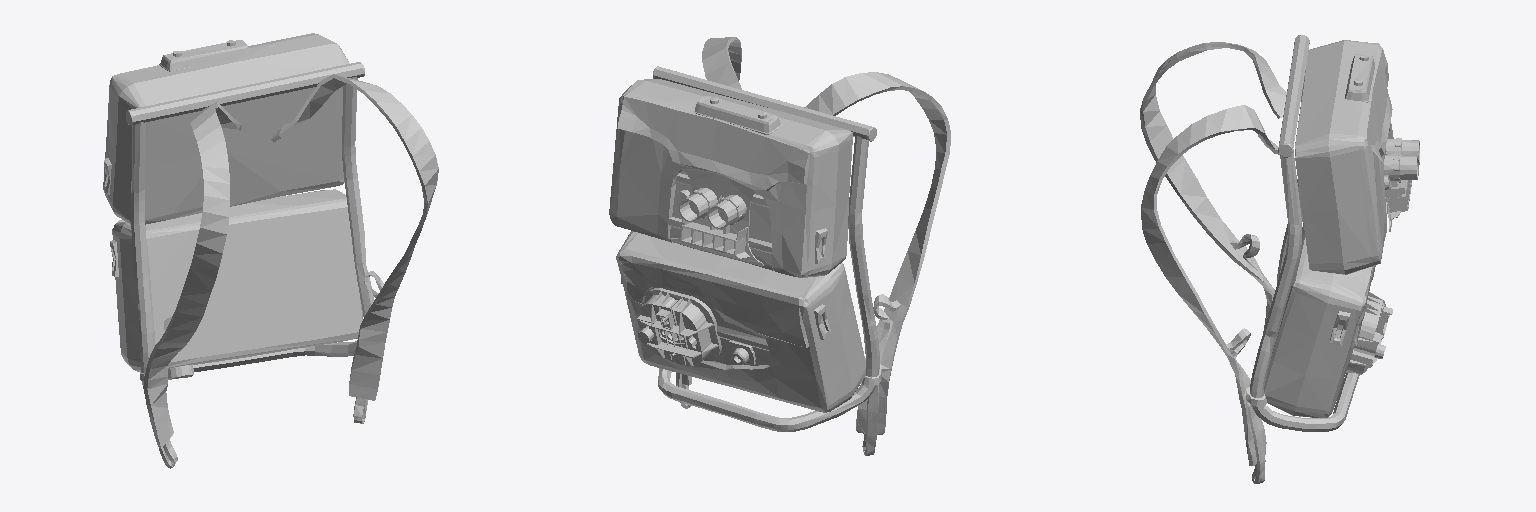
File: backpack.obj
3 renders of one model, left to right at view 1: azimuth 30°, elevation 25°; view 2: azimuth 150°, elevation 25°; view 3: azimuth 270°, elevation 25°, orthographic.
Parts seen in each view (by area): view 1: Mesh_0338.rip; view 2: Mesh_0338.rip; view 3: Mesh_0338.rip.
Boxes of the visible parts, box(x1,y1,x2,y2) form: Mesh_0338.rip: box(103, 33, 438, 468); Mesh_0338.rip: box(609, 37, 950, 455); Mesh_0338.rip: box(1140, 35, 1419, 483).
Size of the model in its own units: 0.3956 by 0.5708 by 0.398.